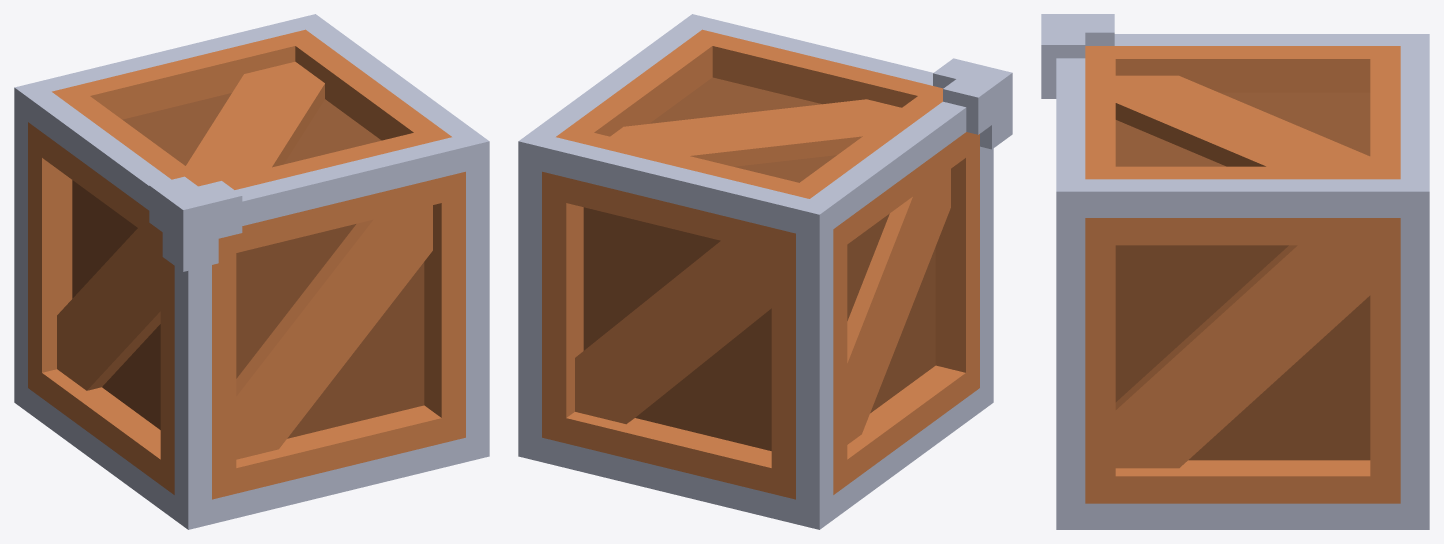
File: crateStrong.fbx
The picture shows the model from 3 angles, left to right: view 1: azimuth 30°, elevation 25°; view 2: azimuth 150°, elevation 25°; view 3: azimuth 270°, elevation 25°; orthographic projection. The views are drawn at different scales.
Parts seen in each view (by area): view 1: crateStrong; view 2: crateStrong; view 3: crateStrong.
Part boxes in pixels (left/top/right/bottom): crateStrong: left=14, top=14, right=489, bottom=529; crateStrong: left=518, top=14, right=1012, bottom=529; crateStrong: left=1041, top=14, right=1429, bottom=529.
Bounding box in the file's own units: 5.2 × 5.2 × 5.2.
